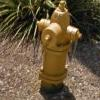Hydrant: (30, 5, 81, 94)
